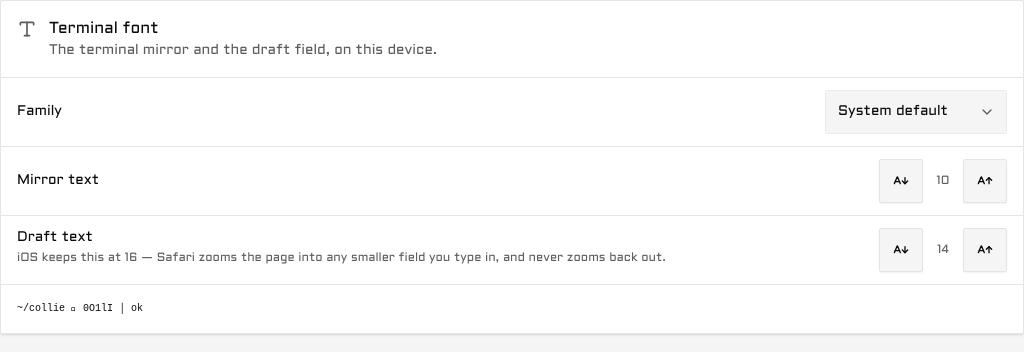
Test: FontSettingsControl — the draft-text size row › stops at its own range, which is narrower than the mirror's at both ends
Click the button named "Decrease draft text size" at (901, 250), box [879,228,923,272]
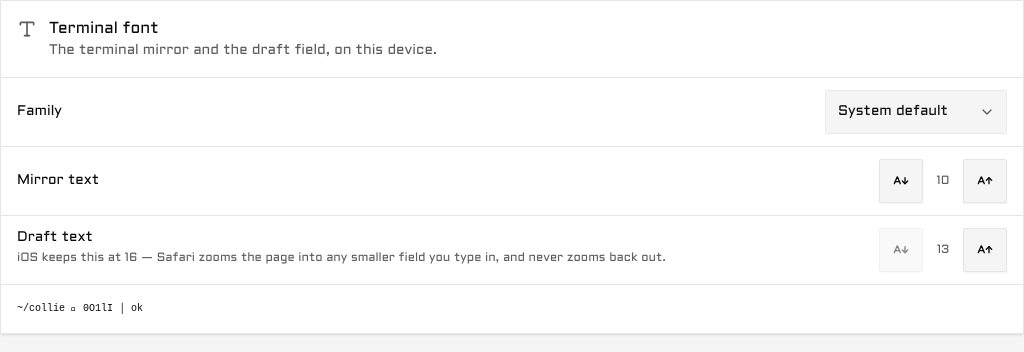
Expected: the button named "Decrease draft text size" is disabled, [879,228,923,272]
Click the button named "Increase draft text size" at (985, 250), box [963,228,1007,272]
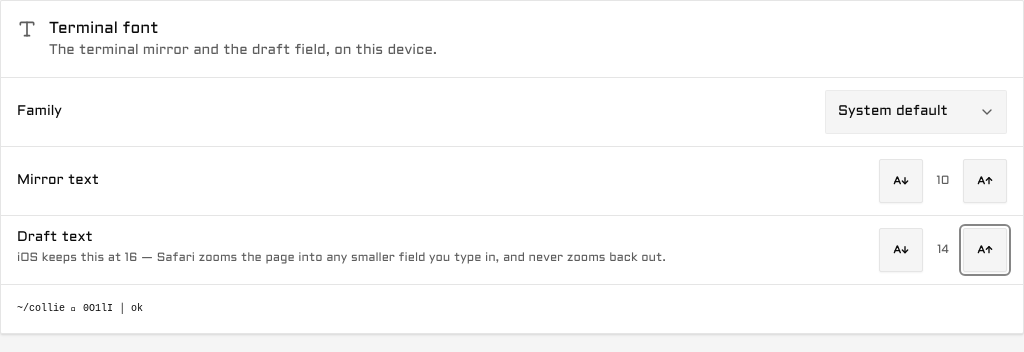
Click the button named "Increase draft text size" at (985, 250), box [963,228,1007,272]
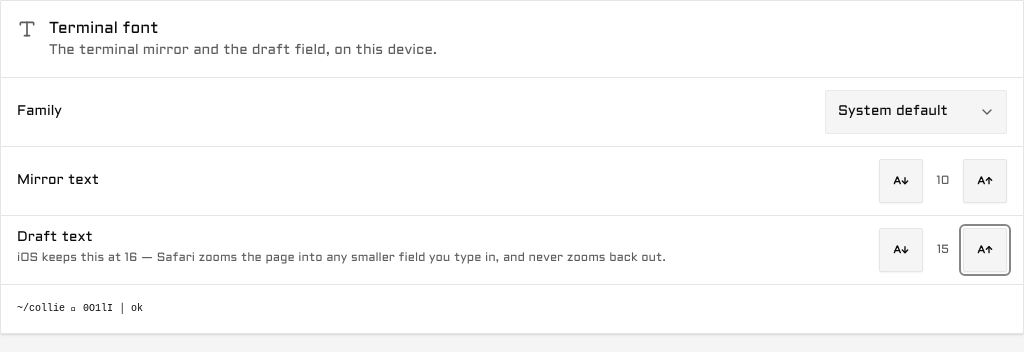
Click the button named "Increase draft text size" at (985, 250), box [963,228,1007,272]
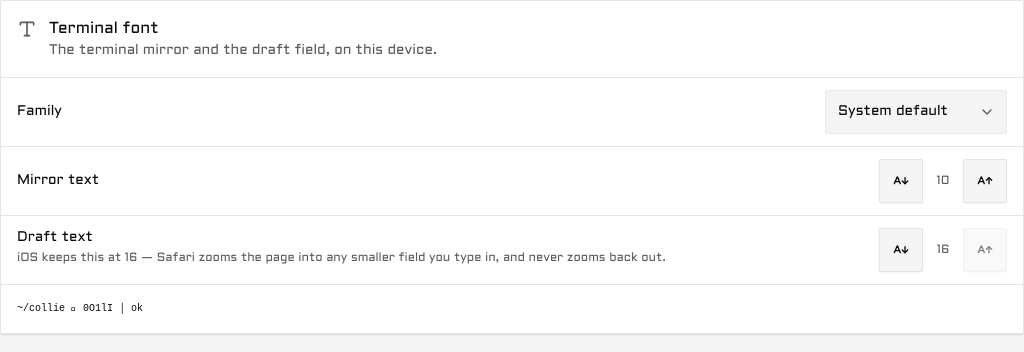
Expected: the button named "Decrease font size" is enabled, [879,159,923,203]
Expected: the button named "Increase draft text size" is disabled, [963,228,1007,272]
